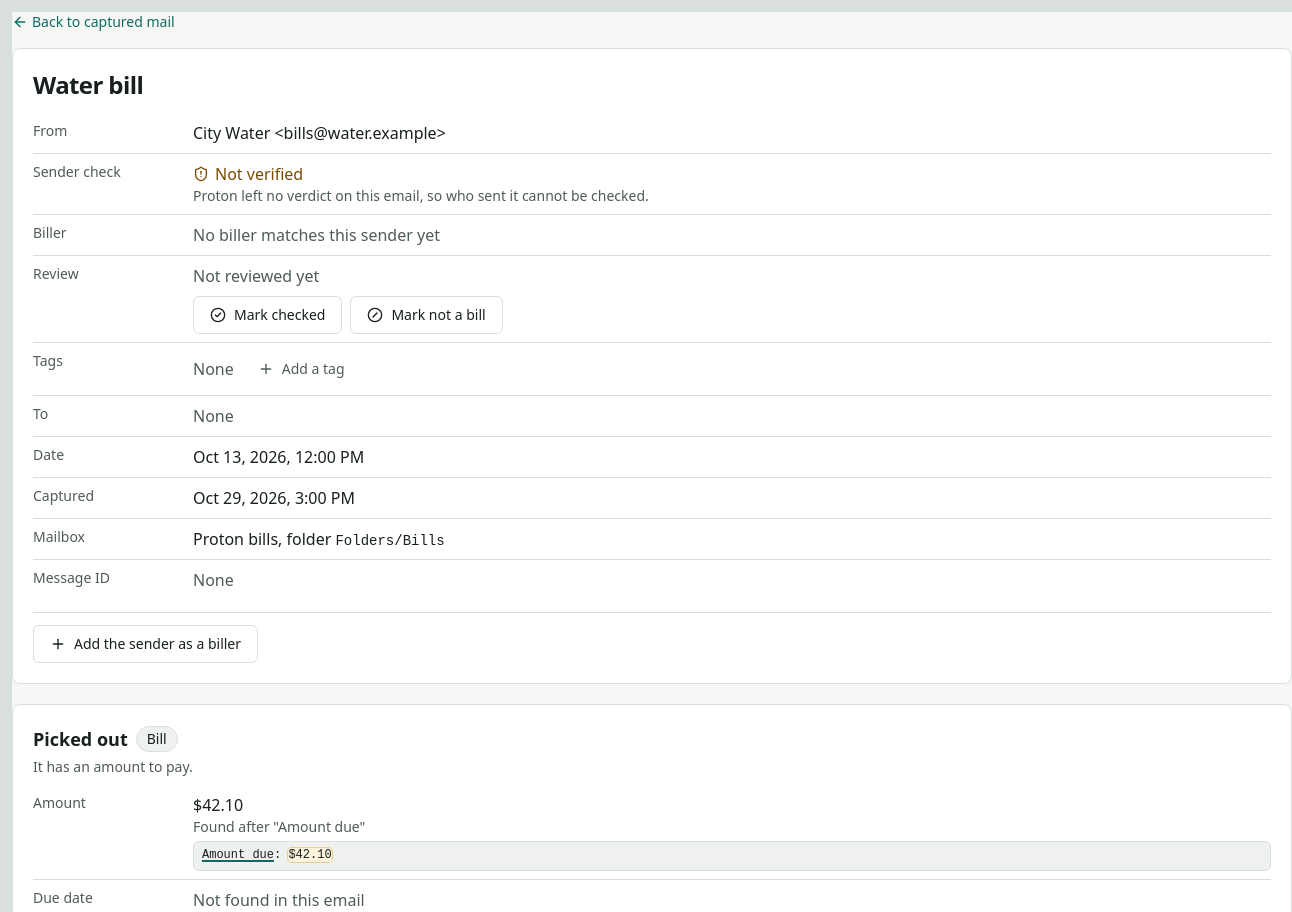
review on an email's page › says why when a mark could not be saved
Step 1. Click the button "Mark checked" → [268, 315], box [193,296,342,334]
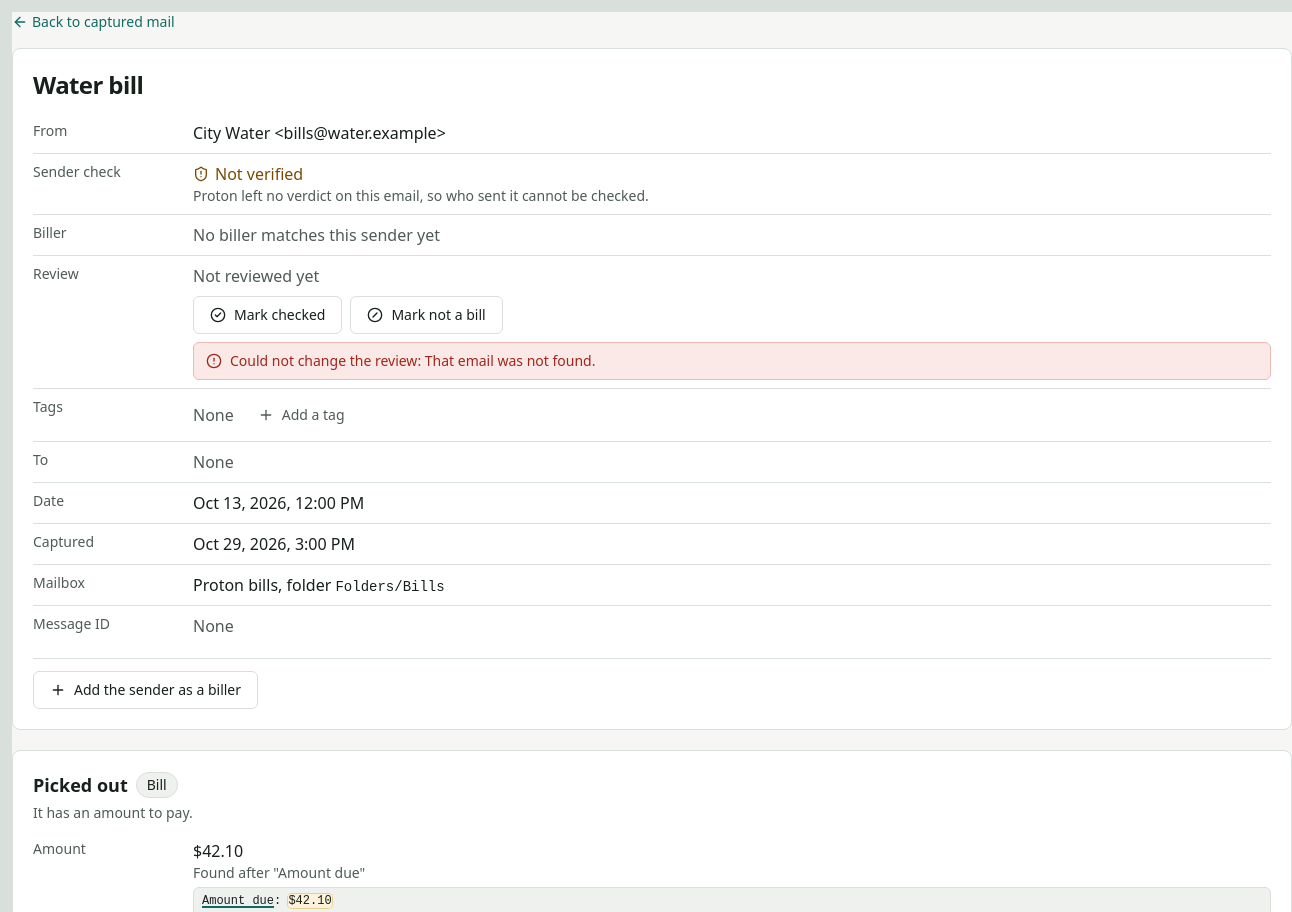
Expected: the text "Not reviewed yet" is shown, [193,265,319,287]
Expected: the text "Could not change the review: That email was not found." is shown, [230,351,596,371]
